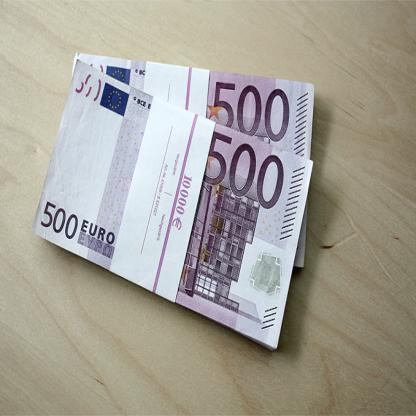euro_banknote: (27, 107, 332, 294), (77, 46, 333, 115)
